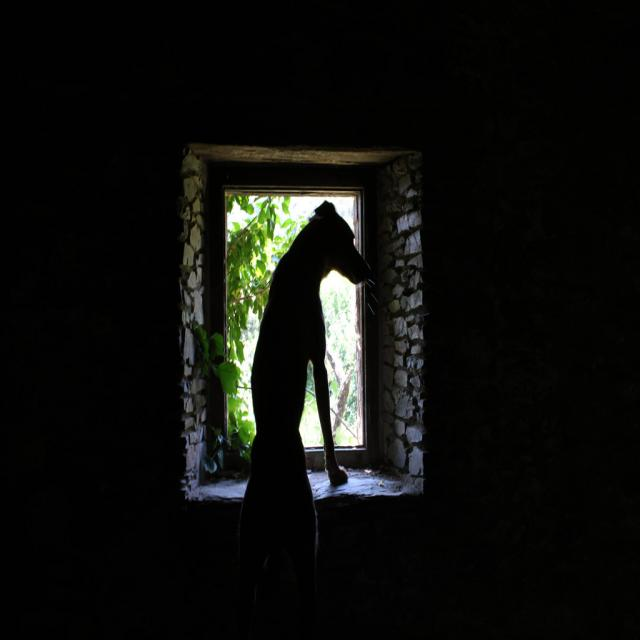dog: (211, 202, 390, 640)
